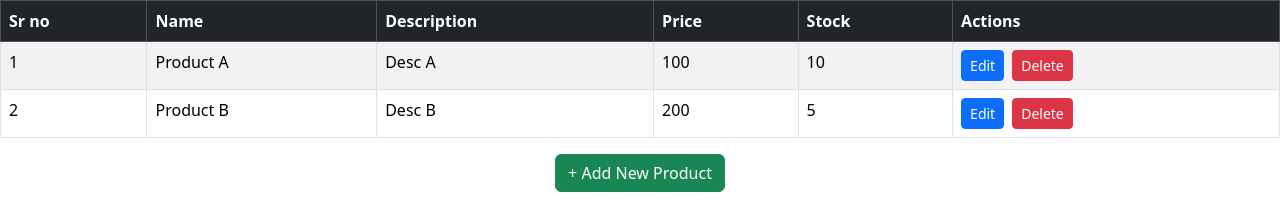
Test: ProductsTable Component › deletes a product and reloads table
The image size is (1280, 209).
Check: the text "Product A" is shown, box [147,42,377,90]
Step 1. Click the button "Delete" in the row of "Product A" → [1042, 66], box [1012,50,1073,81]
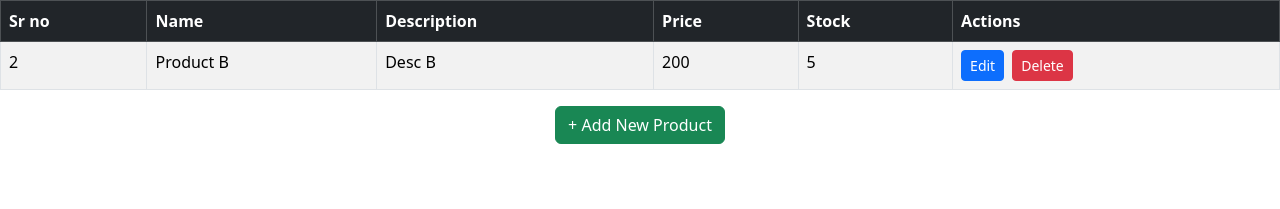
Check: the text "Product B" is shown, box [147,42,377,90]
Check: the text "Product A" is gone
